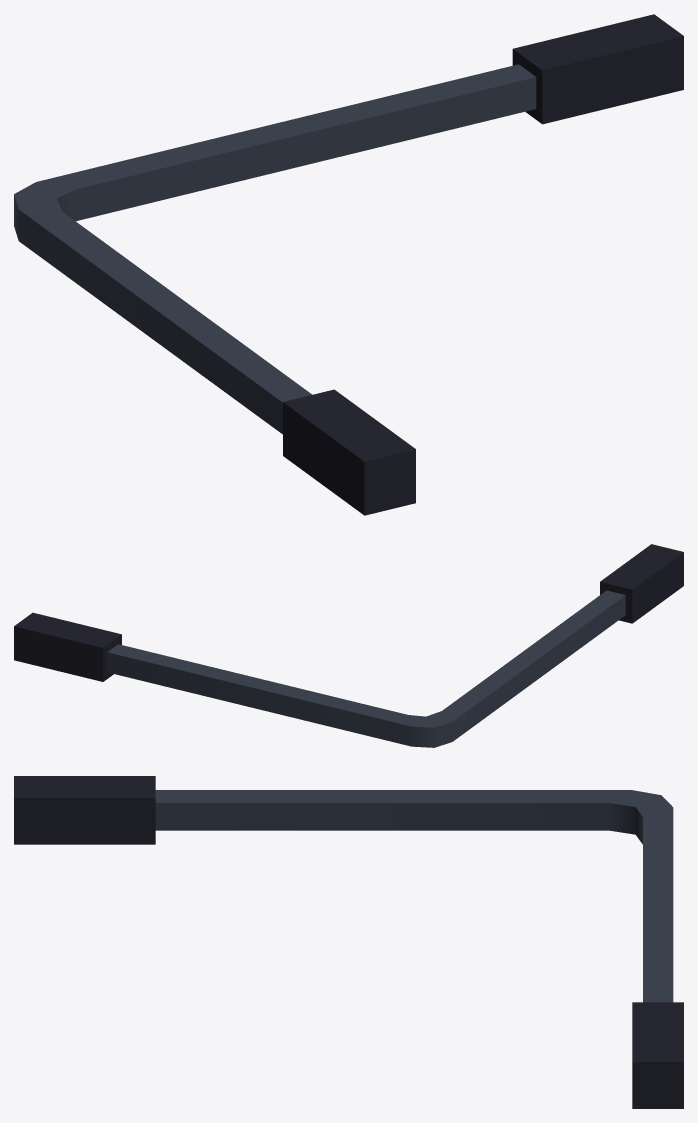
The model's file is Cable_C_2_3.fbx.
The picture shows the model from 3 angles, top to bottom: view 1: azimuth 30°, elevation 25°; view 2: azimuth 150°, elevation 25°; view 3: azimuth 270°, elevation 25°; orthographic projection. The views are drawn at different scales.
Visible parts, largest first — view 1: Cable_C_2_3; view 2: Cable_C_2_3; view 3: Cable_C_2_3.
Boxes of the visible parts, x1,y1,x2,y2 form: Cable_C_2_3: (14,14,683,515); Cable_C_2_3: (14,544,683,747); Cable_C_2_3: (14,776,683,1108).
Bounding box in the file's own units: 129 × 9.83 × 128.
